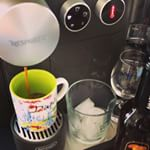cups: (8, 67, 71, 133), (64, 75, 117, 146)
